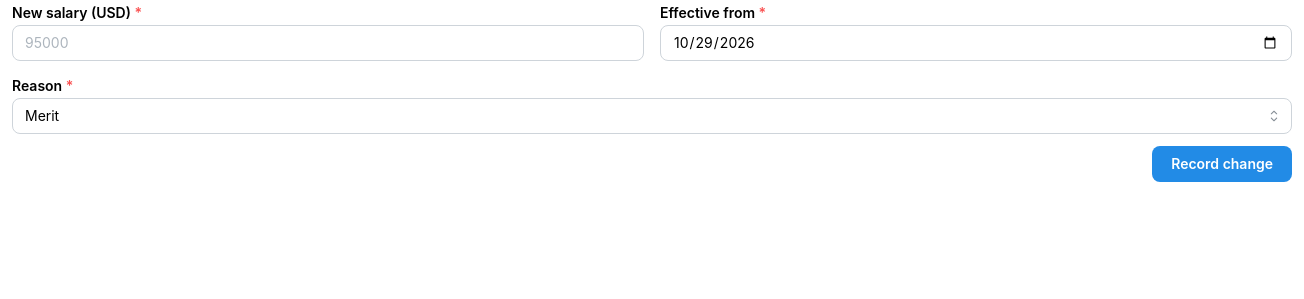
SalaryForm › submitting › shows the server's message when the period overlaps
The width and height of the screenshot is (1304, 299).
Type "125000" into the field labelled "New salary (USD) *" at (328, 43), box left=12, top=25, right=644, bottom=61
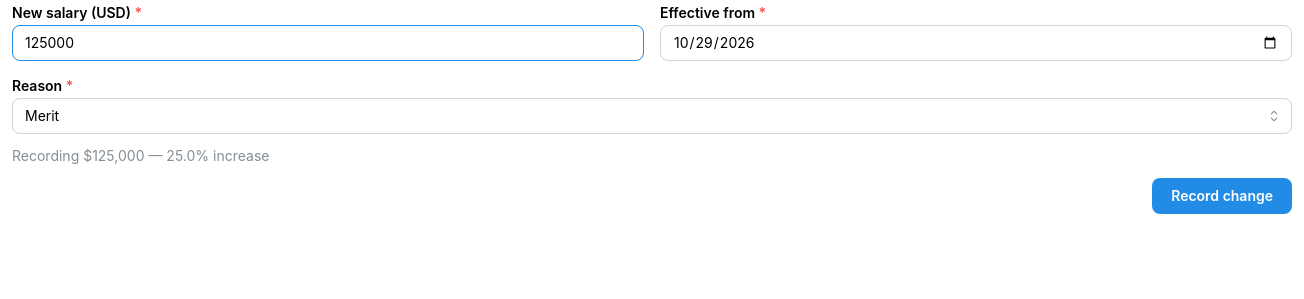
Click the button "Record change" at (1222, 196), box left=1152, top=178, right=1292, bottom=214
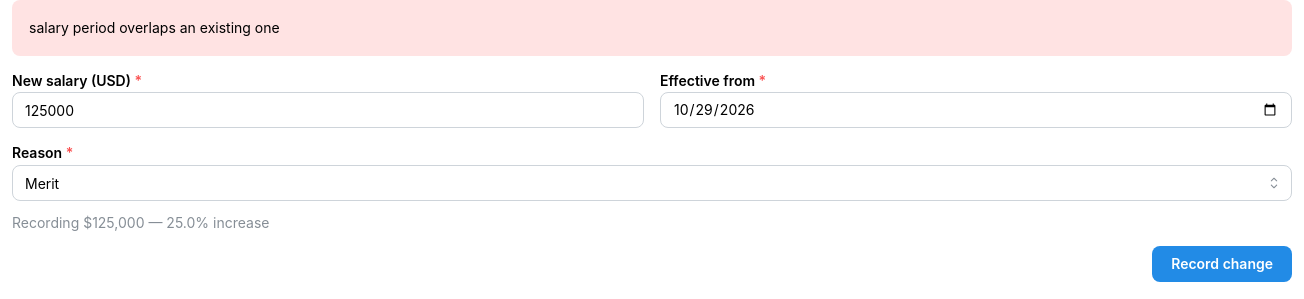
expect the message shows "overlaps an existing one": met, box left=29, top=19, right=280, bottom=36
